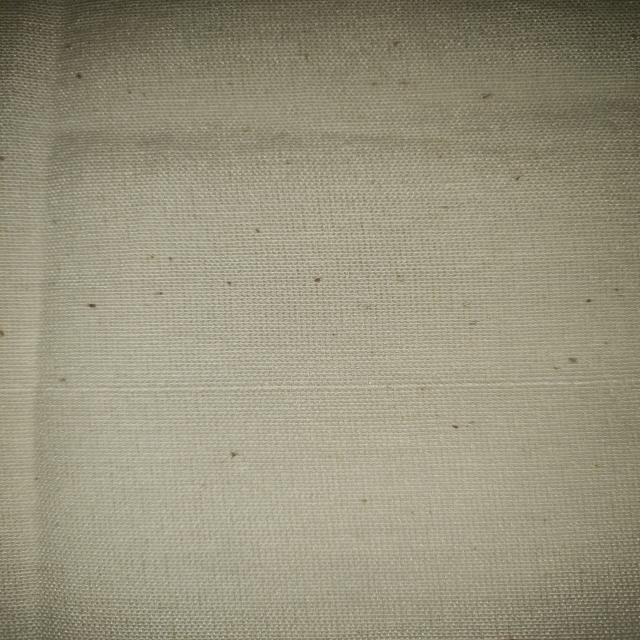Thread_other: (9, 352, 640, 424)
